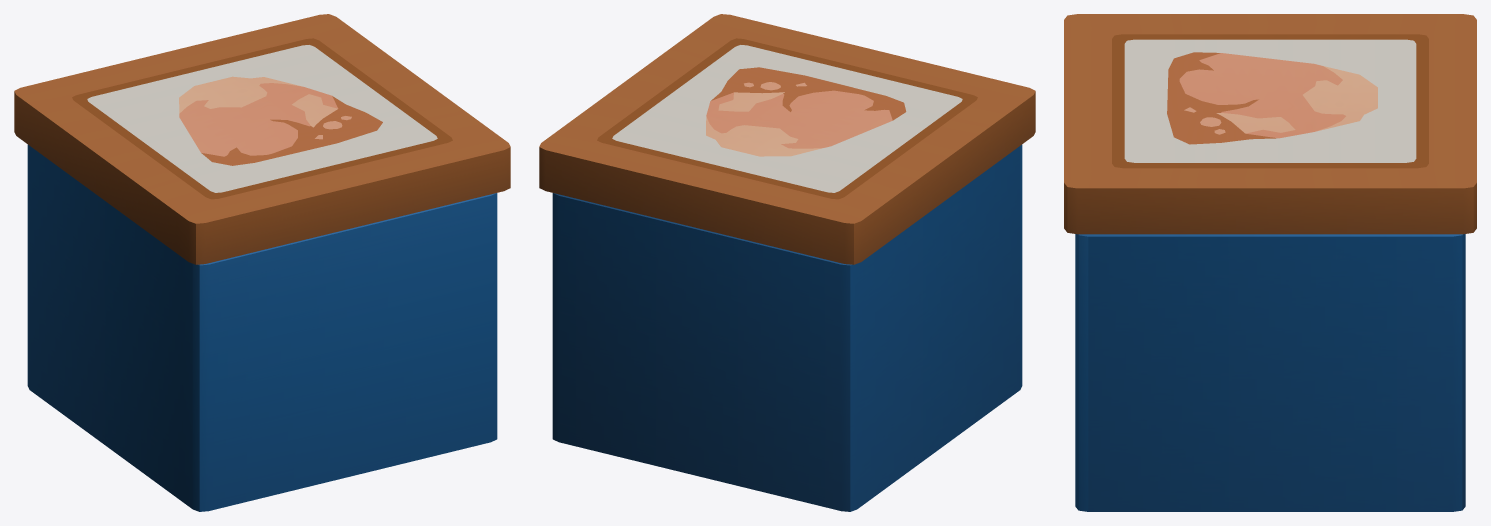
The model's file is ItemBoxB.FBX.
3 renders of one model, left to right at view 1: azimuth 30°, elevation 25°; view 2: azimuth 150°, elevation 25°; view 3: azimuth 270°, elevation 25°, orthographic. The views are drawn at different scales.
Visible parts, largest first — view 1: ItemBoxB; view 2: ItemBoxB; view 3: ItemBoxB.
Boxes of the visible parts, bbox=[...] form: ItemBoxB: bbox=[14, 14, 510, 511]; ItemBoxB: bbox=[539, 14, 1035, 511]; ItemBoxB: bbox=[1064, 14, 1476, 511].
Bounding box in the file's own units: 0.9517 × 0.842 × 0.9517.
